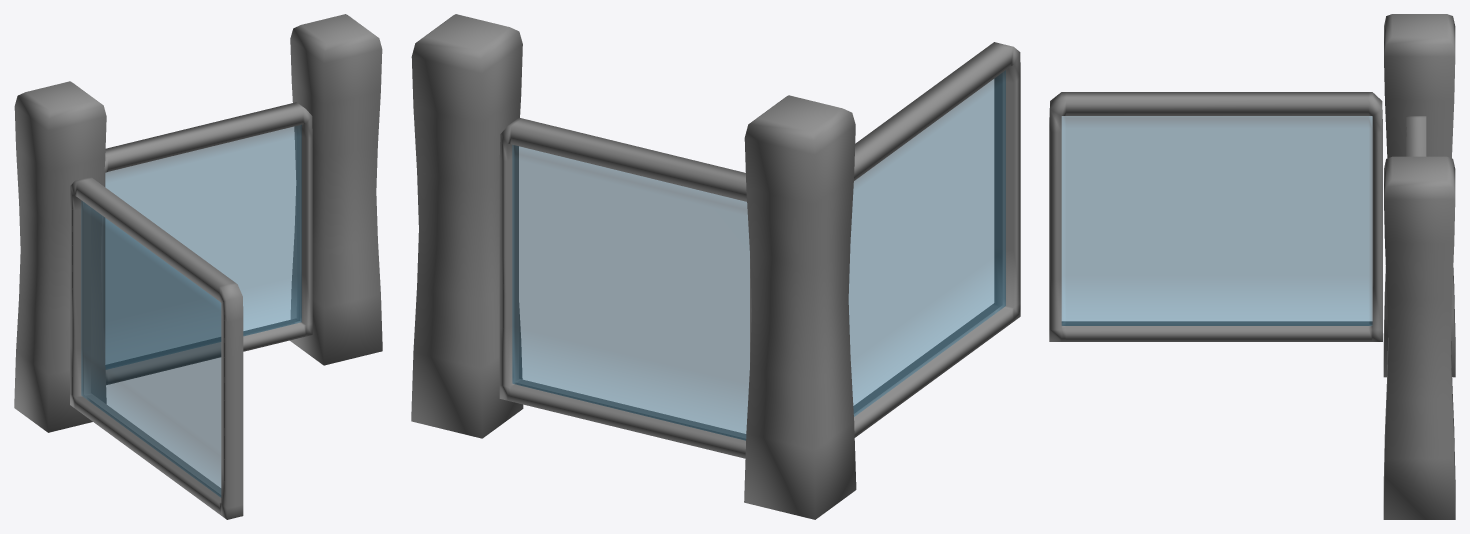
Rendered from GlassHalfWall_RightCorner_Border.glb.
3 renders of one model, left to right at view 1: azimuth 30°, elevation 25°; view 2: azimuth 150°, elevation 25°; view 3: azimuth 270°, elevation 25°, orthographic. The views are drawn at different scales.
Parts seen in each view (by area): view 1: 6-StraightGlassBorder.012, 6-StraightGlassBorder.013, 3-PostNARROWER.012, 3-PostNARROWER.010; view 2: 6-StraightGlassBorder.012, 6-StraightGlassBorder.013, 3-PostNARROWER.010, 3-PostNARROWER.012; view 3: 6-StraightGlassBorder.013, 3-PostNARROWER.012, 3-PostNARROWER.010, 6-StraightGlassBorder.012.
Part boxes in pixels (box(x1,y1,x2,y2)): 6-StraightGlassBorder.012: box(100, 102, 312, 384); 6-StraightGlassBorder.013: box(70, 177, 243, 519); 3-PostNARROWER.012: box(290, 14, 382, 365); 3-PostNARROWER.010: box(14, 81, 106, 432); 6-StraightGlassBorder.012: box(499, 117, 751, 458); 6-StraightGlassBorder.013: box(848, 42, 1020, 437); 3-PostNARROWER.010: box(744, 95, 856, 519); 3-PostNARROWER.012: box(411, 14, 523, 438); 6-StraightGlassBorder.013: box(1049, 92, 1382, 341); 3-PostNARROWER.012: box(1383, 156, 1455, 519); 3-PostNARROWER.010: box(1383, 14, 1455, 377); 6-StraightGlassBorder.012: box(1406, 116, 1426, 156).
Bounding box in the file's own units: 1.1 × 0.9929 × 1.09.
Materials: 3 (3 with a texture image).
